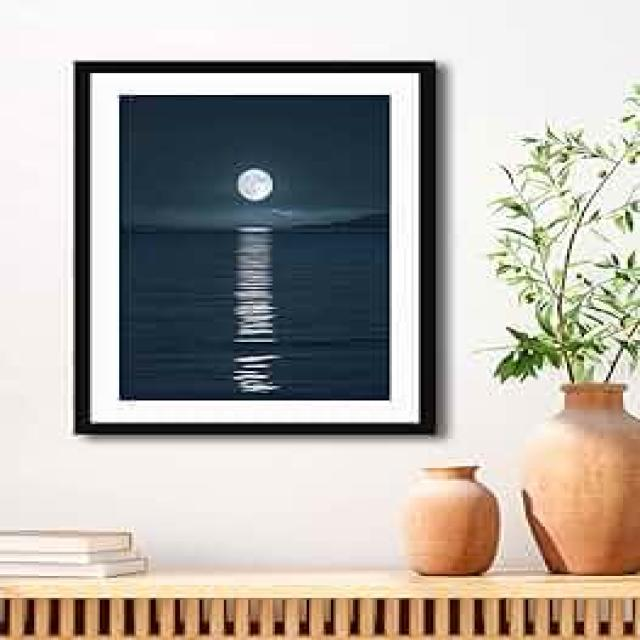painting: (72, 57, 435, 434)
